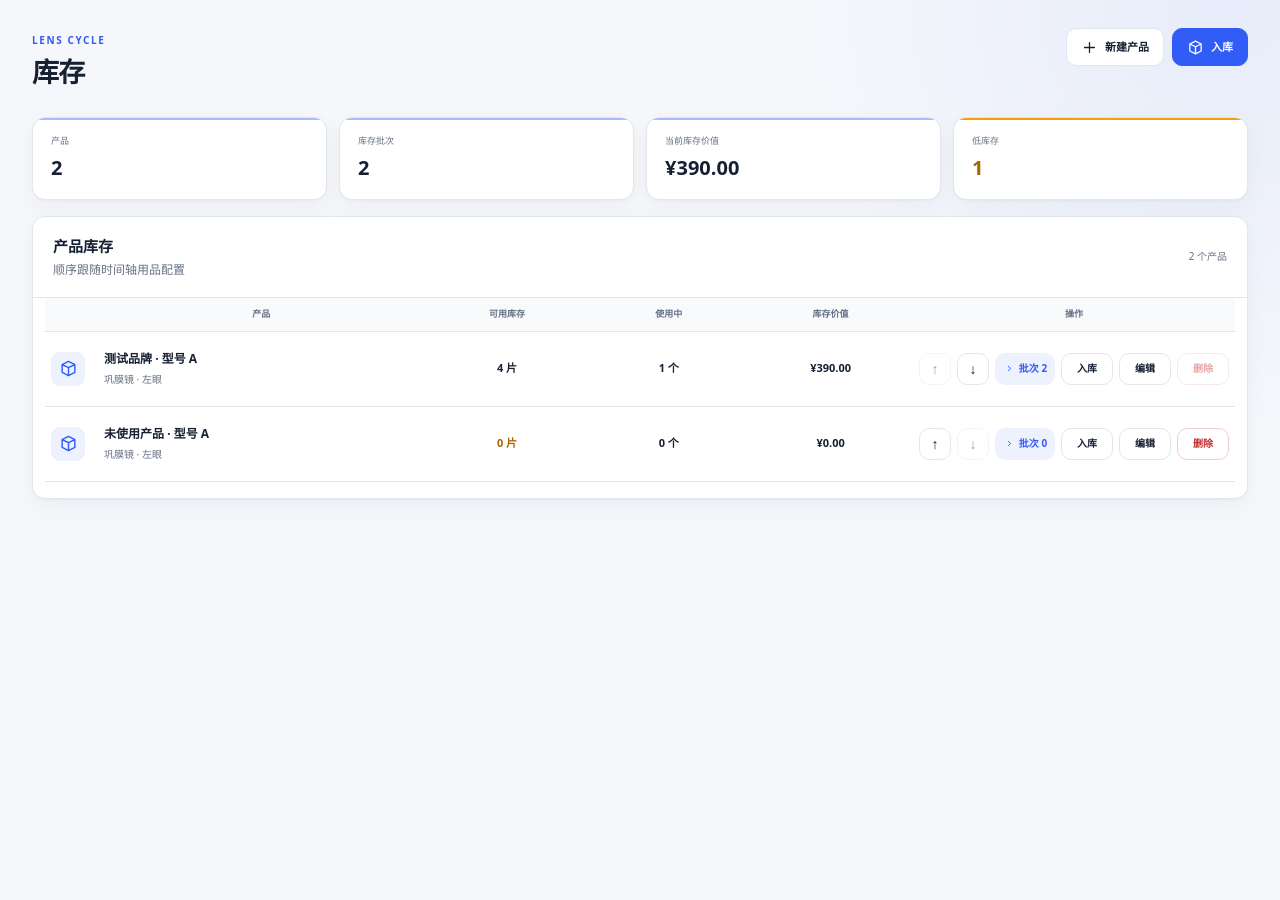
it: populated page rendering › reorders and deletes an unused product and voids an unused stock lot
The image size is (1280, 900).
Click the button named "上移 未使用产品 型号 A".
click(935, 444)  # box [919,428,951,460]
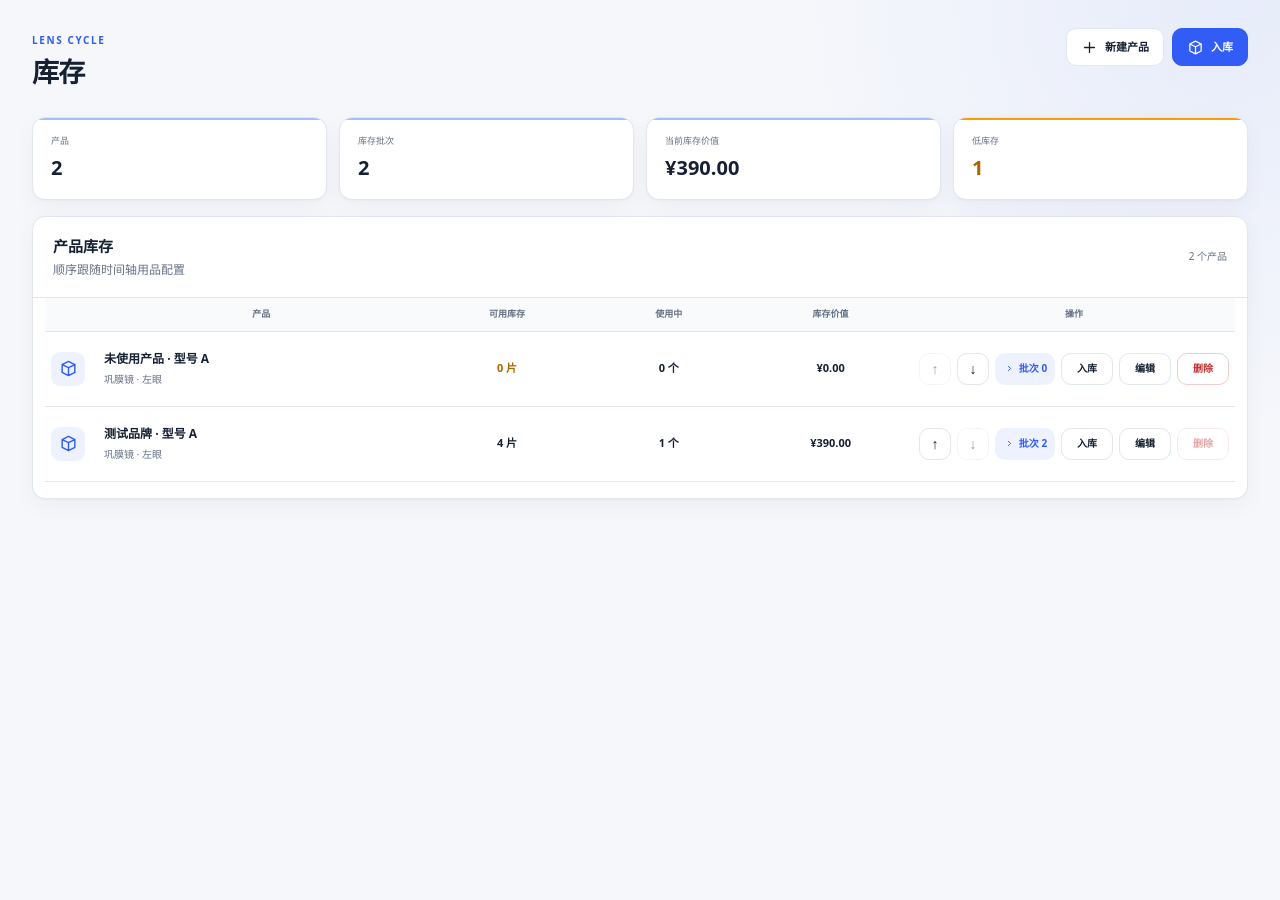
Click the button "删除" in the row of "¥0.00".
click(1203, 368)  # box [1177,352,1229,384]
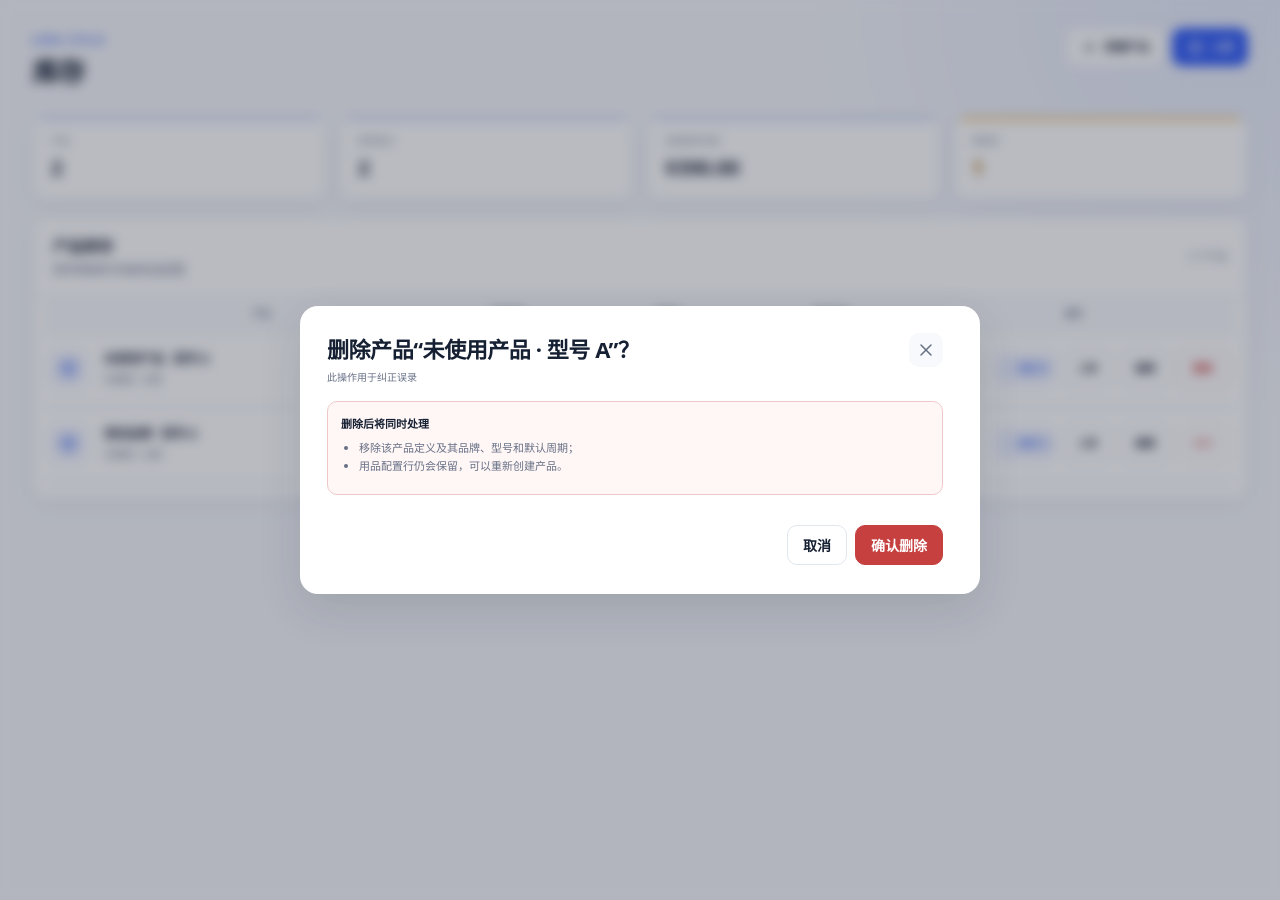
Click the button "确认删除".
click(899, 545)  # box [855,525,943,565]
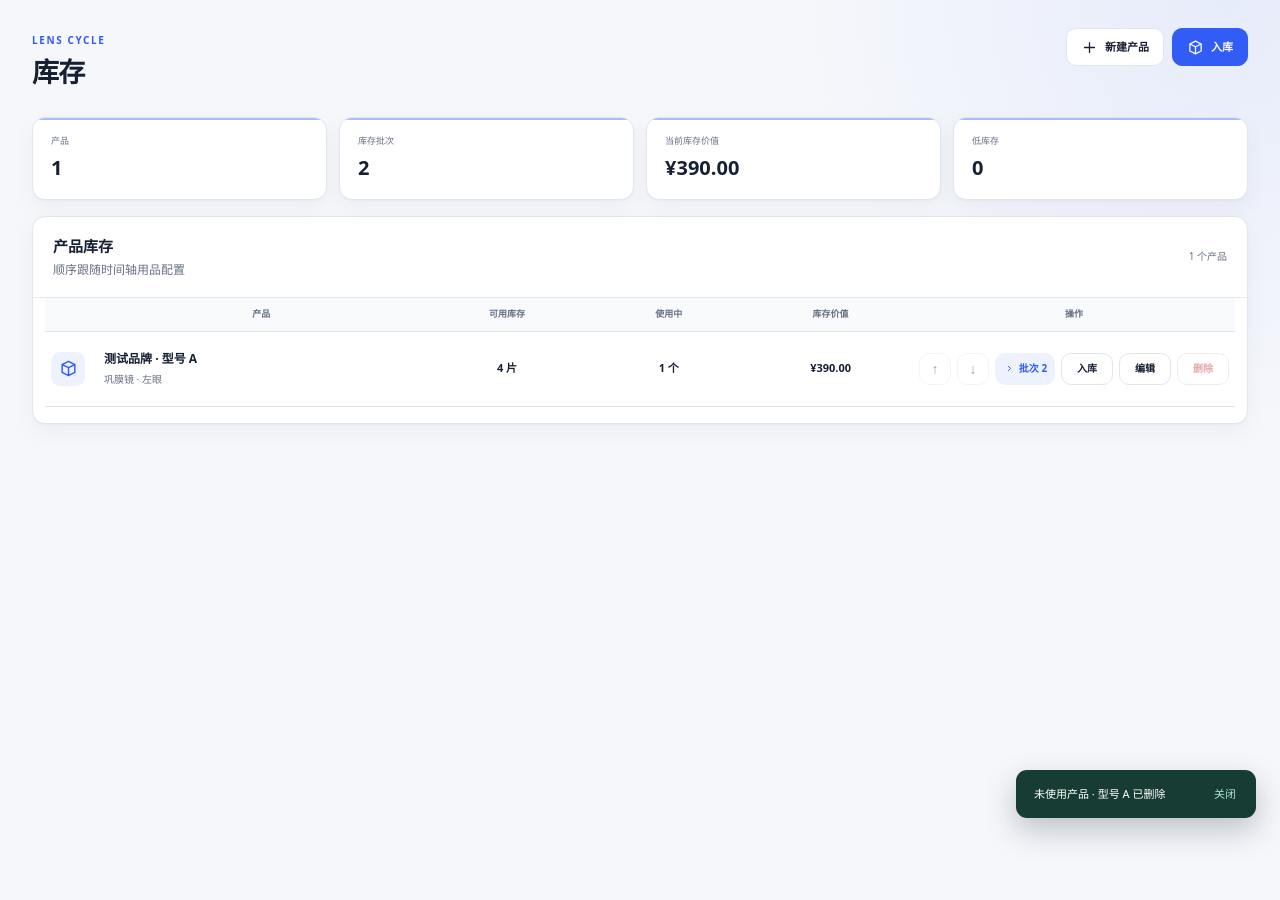
Click the button "批次 2".
click(1025, 368)  # box [995,352,1055,384]
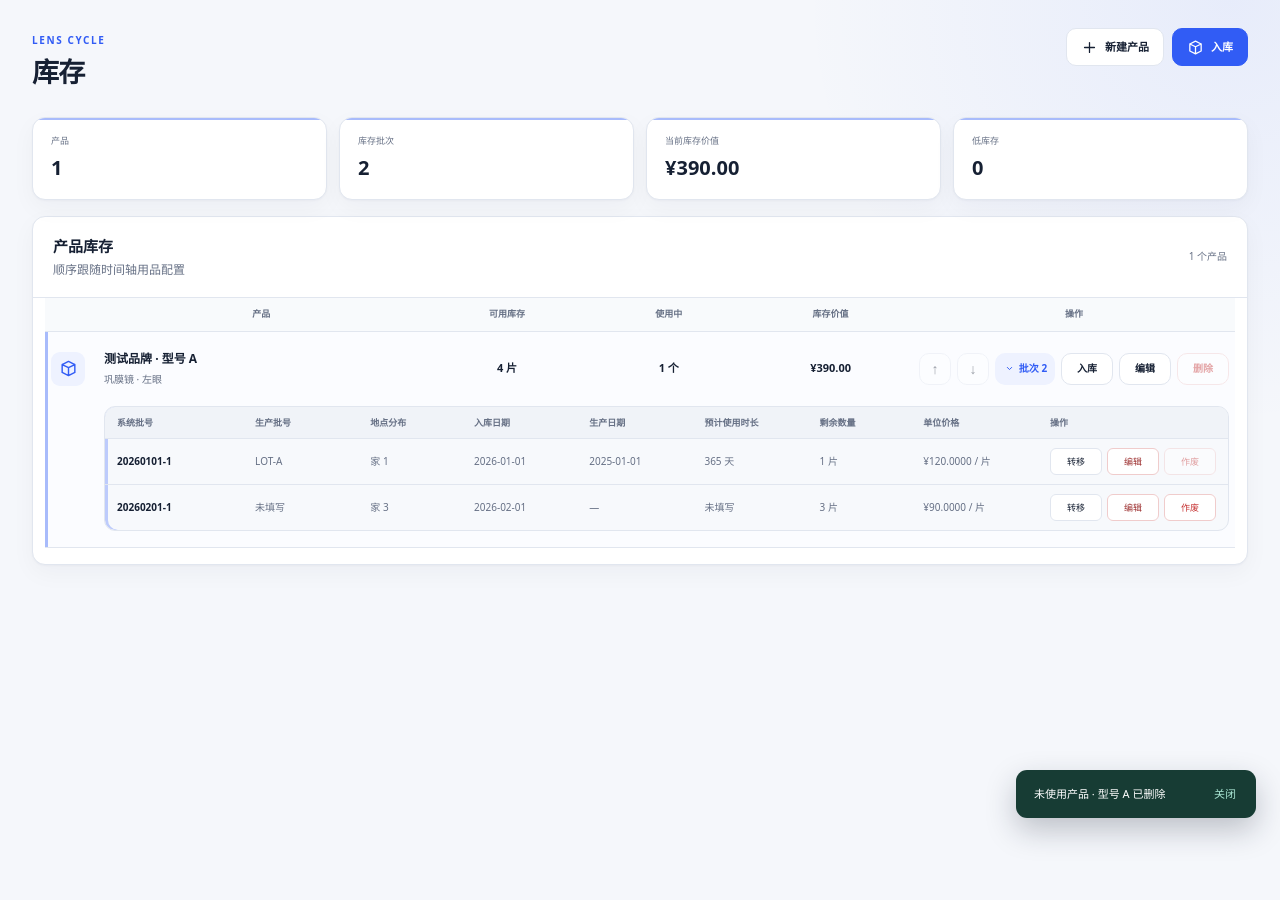
Click the button "作废" in the row of "¥90.0000".
click(1190, 508)  # box [1164,494,1216,521]
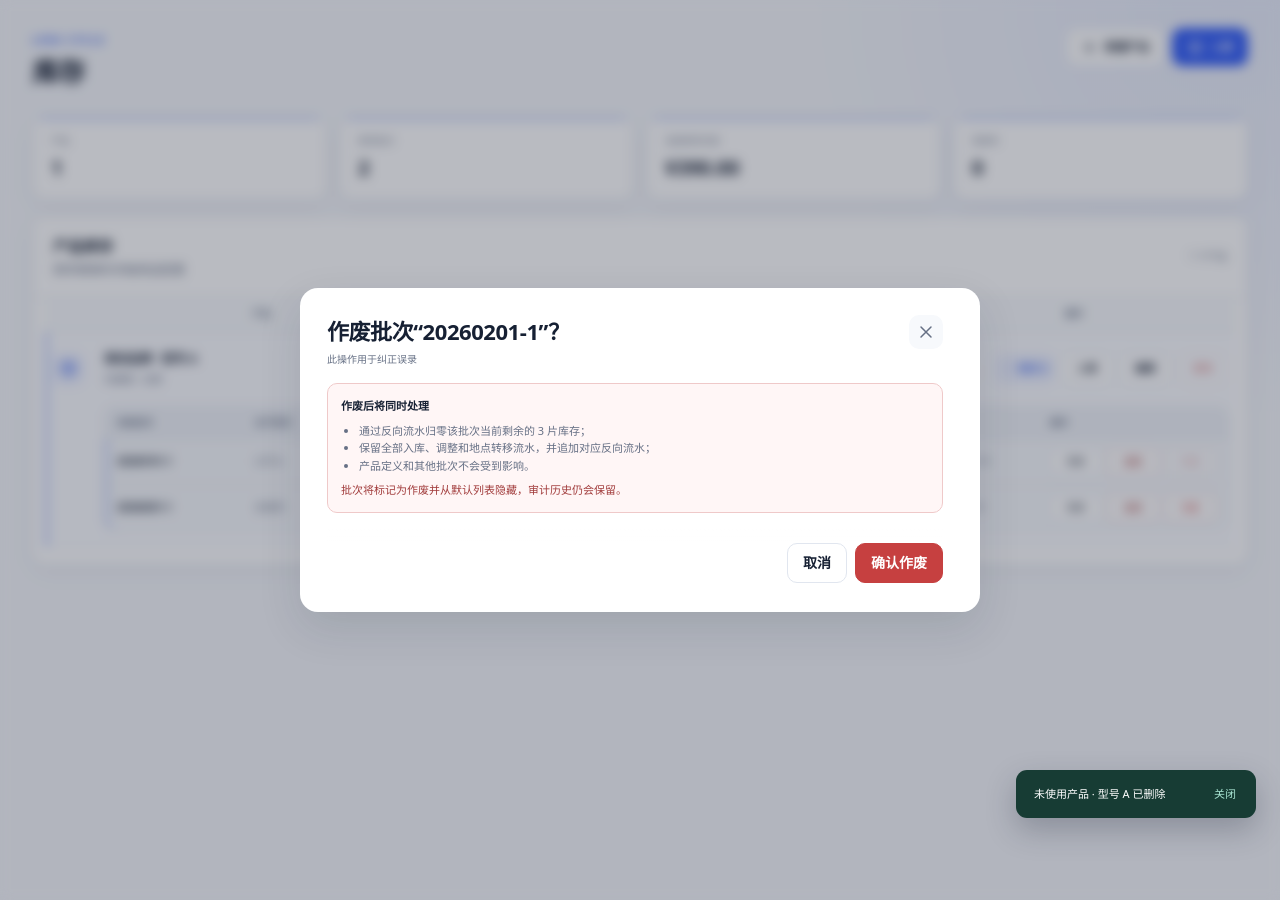
Click the button "确认作废".
click(899, 563)  # box [855,543,943,583]
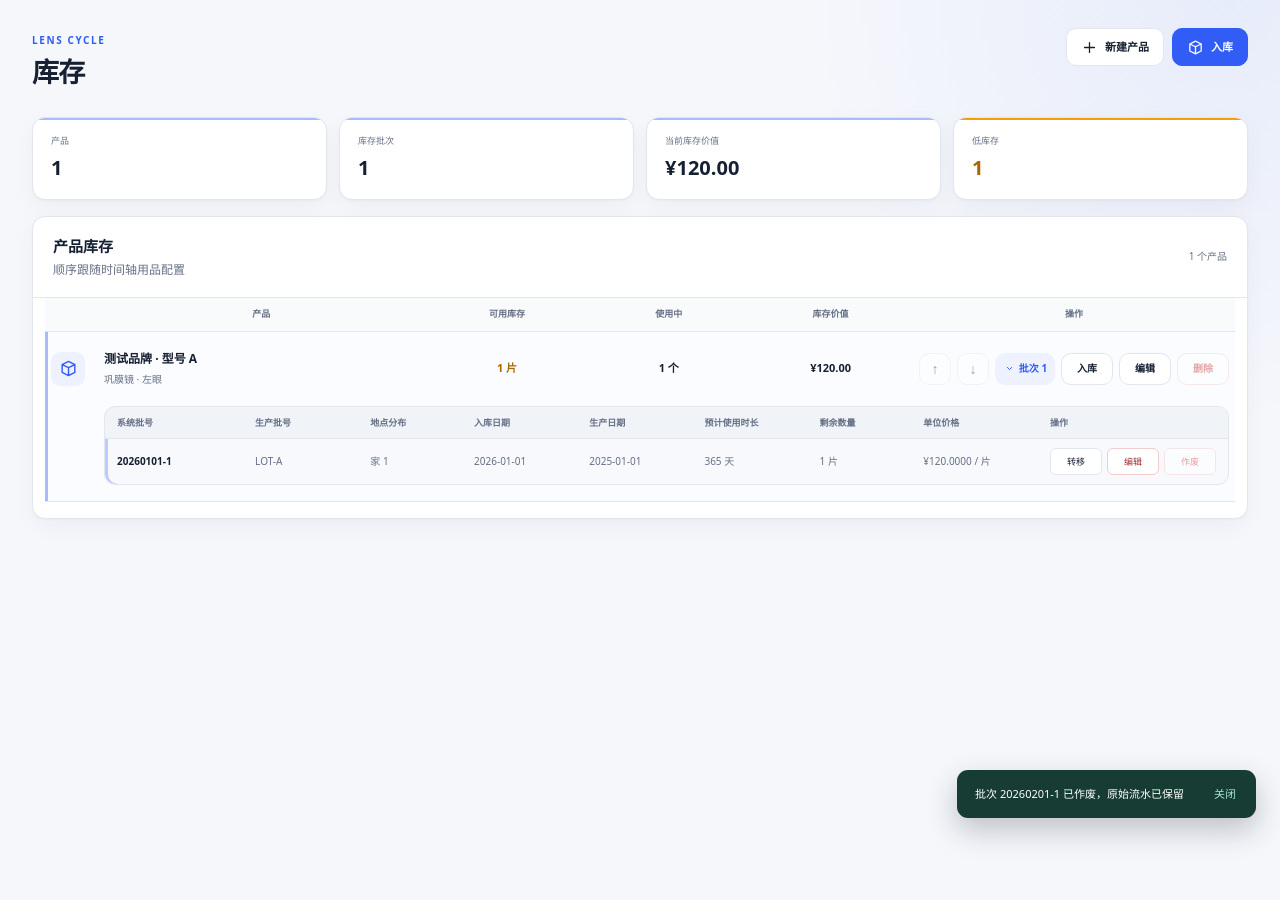
Check: the text "批次 20260201-1 已作废，原始流水已保留" is shown, box [975,786,1184,802]
